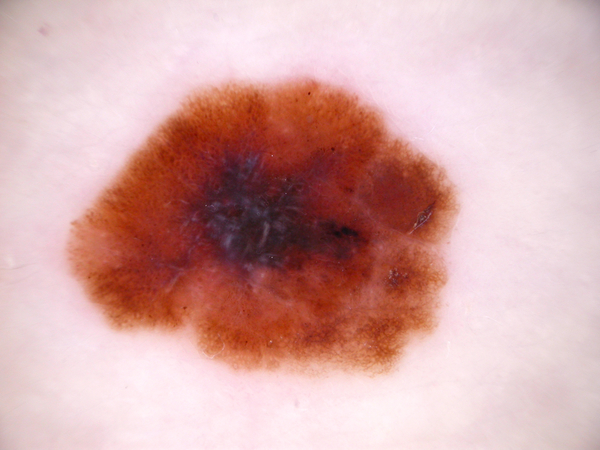Detected Lesion: (60, 73, 460, 385)
